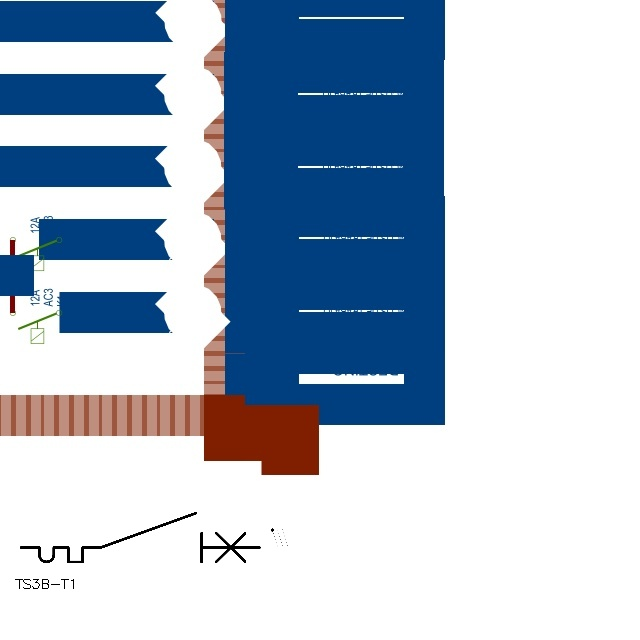interruptor_termomagnetico: (15, 507, 266, 568)
